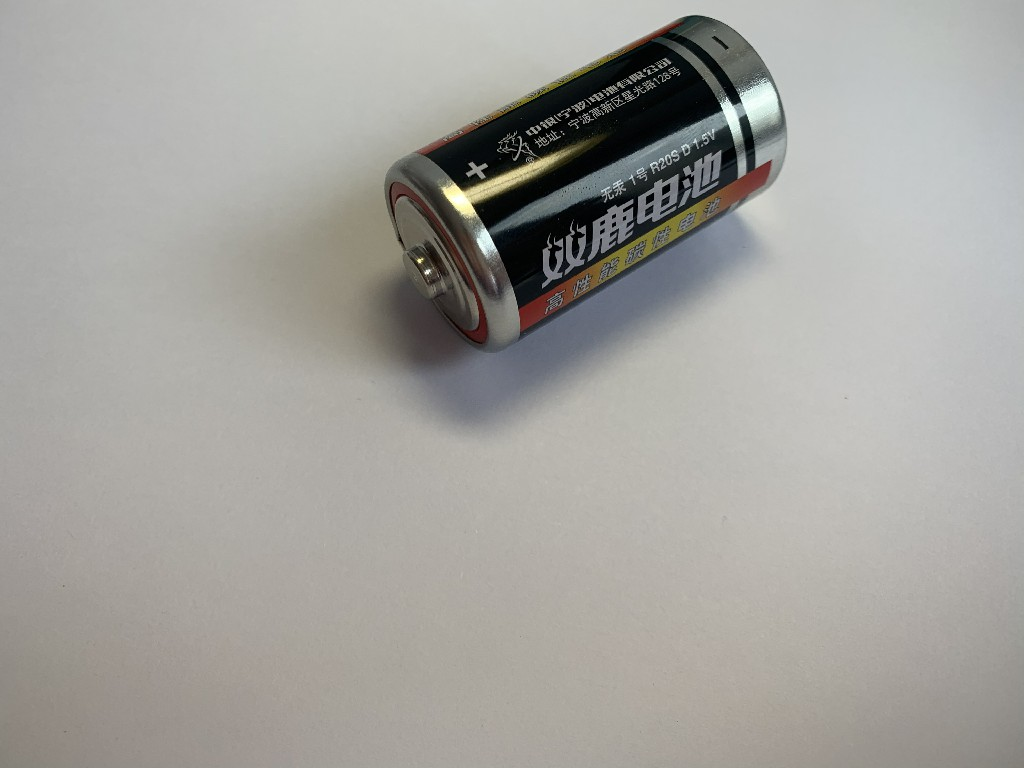charge: (377, 11, 792, 359)
